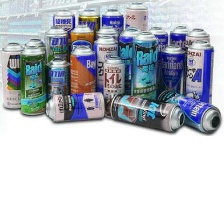aerosol_cans: (107, 89, 186, 134), (154, 86, 222, 137), (182, 37, 216, 116), (128, 27, 161, 106), (154, 40, 189, 110), (17, 43, 47, 119), (41, 90, 108, 124), (182, 26, 212, 100), (122, 1, 152, 75), (19, 33, 49, 105), (167, 21, 193, 101), (68, 42, 99, 108), (49, 7, 77, 79), (144, 24, 169, 103), (91, 32, 120, 100), (0, 38, 26, 111), (99, 5, 125, 74), (99, 53, 128, 113), (68, 21, 95, 84), (76, 5, 100, 72), (43, 54, 72, 109), (43, 24, 70, 83)
